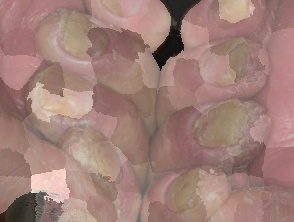Nail_psoriasis: (10, 55, 121, 159), (52, 110, 153, 216), (28, 0, 144, 89), (174, 32, 276, 115), (140, 139, 242, 222), (166, 98, 274, 168), (181, 0, 268, 43), (81, 0, 167, 32)
